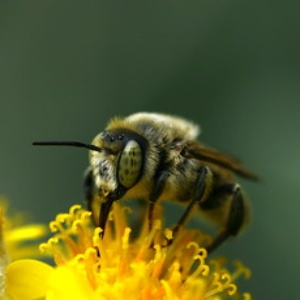bee: (31, 105, 266, 276)
